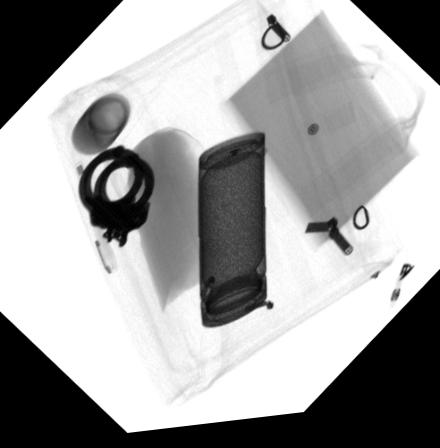HandCuffs: (75, 146, 156, 253)
